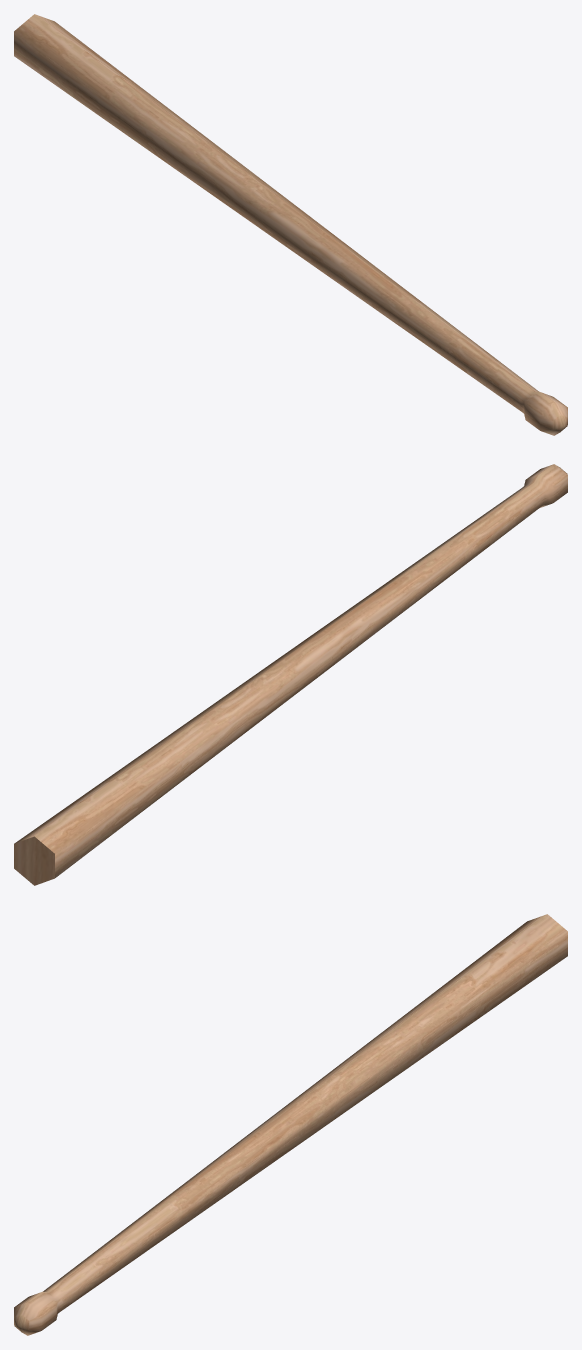
File: SM_Stick_4k.fbx
3 renders of one model, top to bottom at view 1: azimuth 30°, elevation 25°; view 2: azimuth 150°, elevation 25°; view 3: azimuth 330°, elevation 25°, orthographic.
Visible parts, largest first — view 1: DrumStick_4k; view 2: DrumStick_4k; view 3: DrumStick_4k.
Part boxes in pixels (<box>): DrumStick_4k: <box>14,14,567,435</box>; DrumStick_4k: <box>14,464,567,885</box>; DrumStick_4k: <box>14,914,567,1335</box>.
Size of the model in its own units: 1.84 by 2.12 by 41.1.
1 material, 1 textured.
